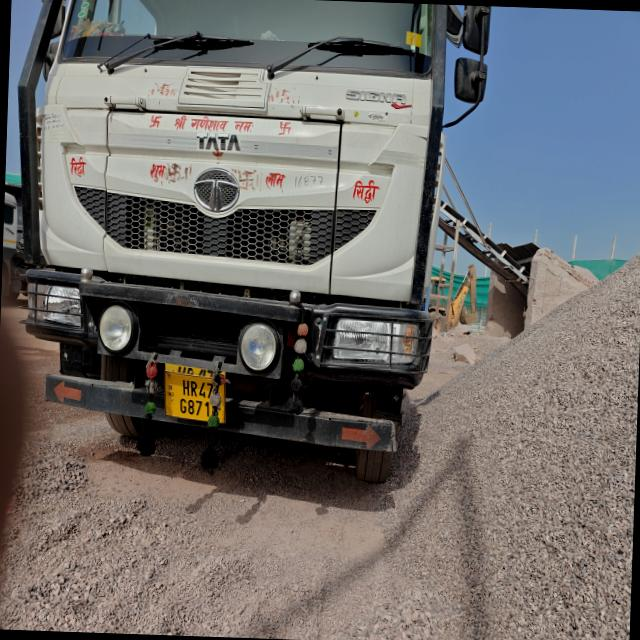license_plate: (164, 364, 213, 421)
